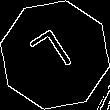L_SE: (28, 25, 82, 85)
